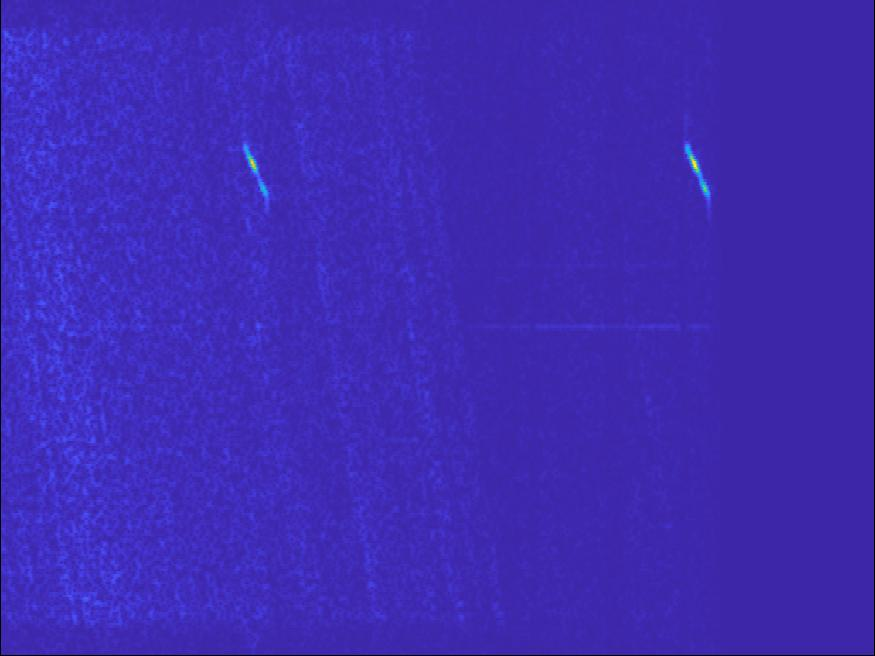Interference: (62, 353, 285, 522), (167, 81, 281, 169), (85, 368, 274, 412), (422, 311, 518, 355)
